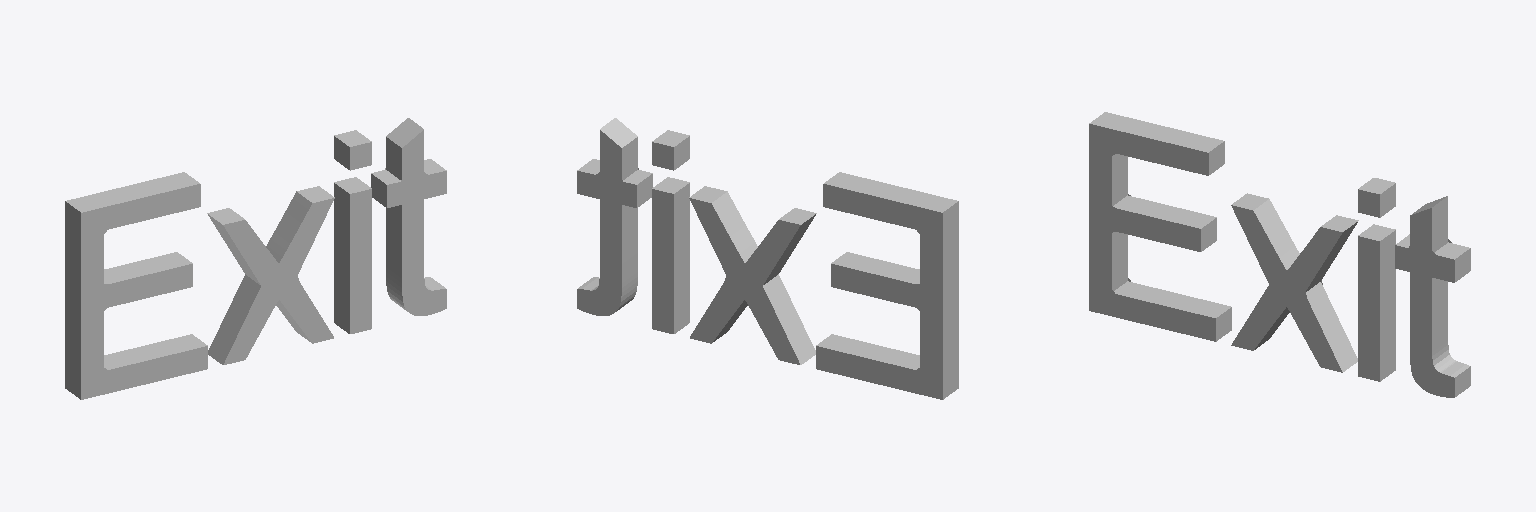
File: Exit_text.obj
3 renders of one model, left to right at view 1: azimuth 30°, elevation 25°; view 2: azimuth 150°, elevation 25°; view 3: azimuth 330°, elevation 25°, orthographic.
Parts seen in each view (by area): view 1: curve1; view 2: curve1; view 3: curve1.
Boxes of the visible parts, <box> form: curve1: <box>65,118,446,399</box>; curve1: <box>577,118,958,399</box>; curve1: <box>1089,112,1470,397</box>.
Size of the model in its own units: 1.52 by 0.7464 by 0.1164.